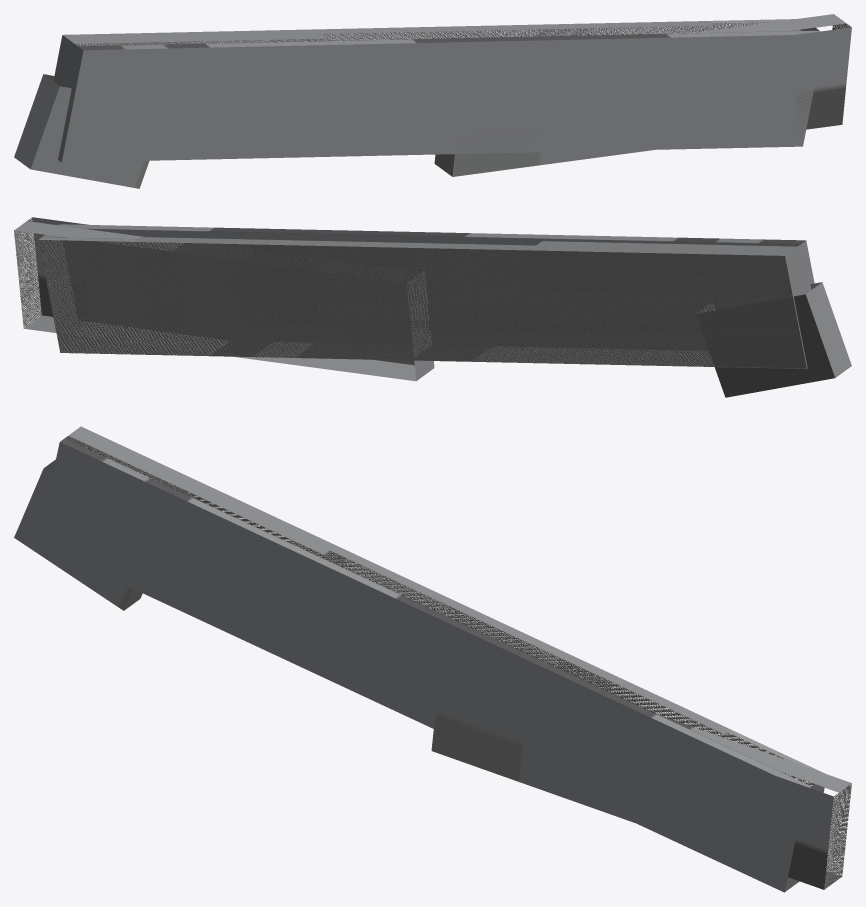
The picture shows the model from 3 angles, top to bottom: view 1: azimuth 30°, elevation 25°; view 2: azimuth 150°, elevation 25°; view 3: azimuth 330°, elevation 25°; orthographic projection.
Size of the model in its own units: 0.5757 by 0.1829 by 0.0258.
